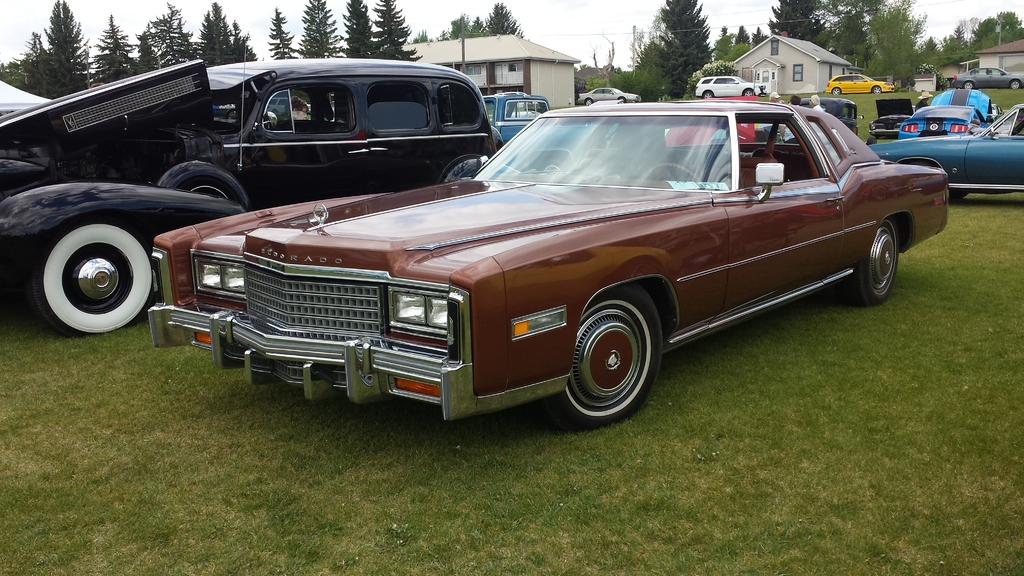Car: (0, 47, 1023, 434)
